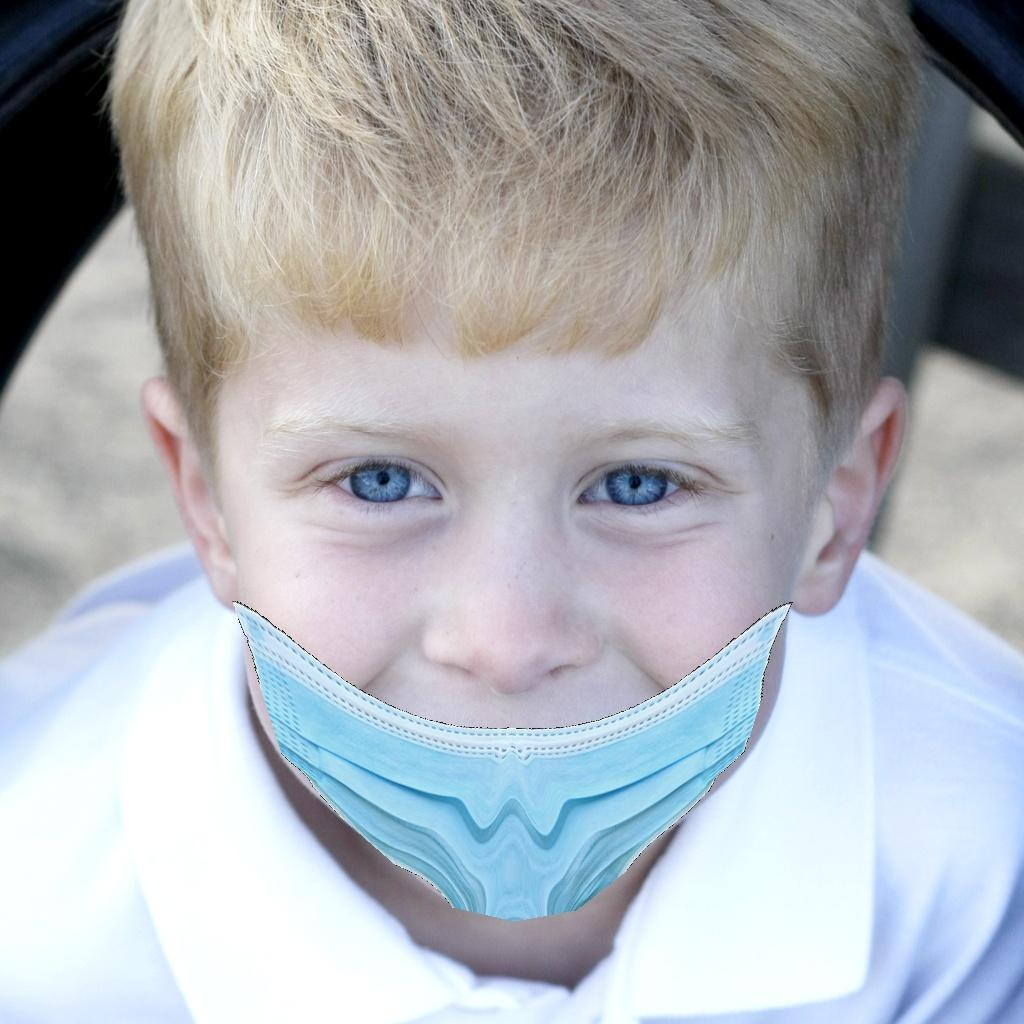Máscara Incorreta: (181, 268, 840, 887)
